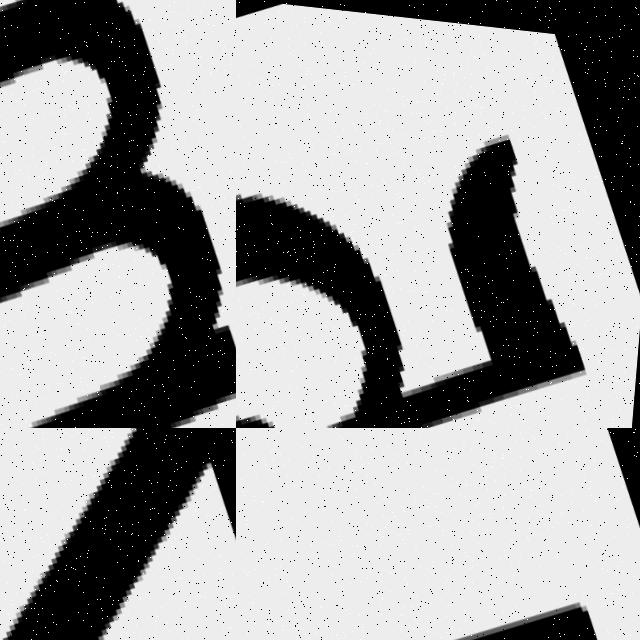1: (236, 445, 640, 640)
5: (236, 46, 640, 428)
M: (0, 0, 236, 428)
Z: (0, 428, 236, 640)
